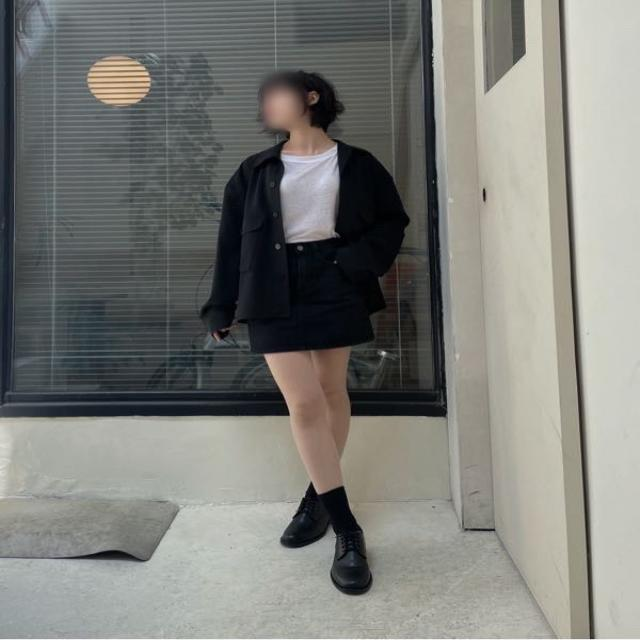jacket: (202, 135, 414, 331)
skirt: (249, 238, 374, 354)
